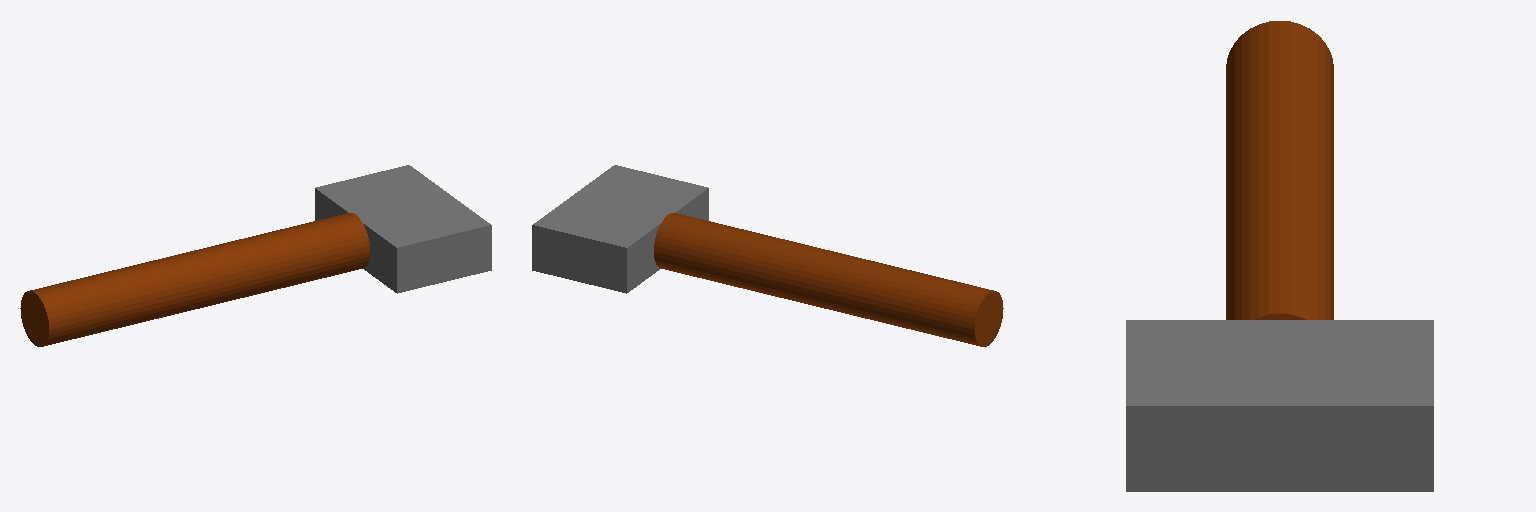
The robot description file, URDF, robot "handle_head":
<?xml version="1.0"?>
<robot name="handle_head">

  <link name="handle_head">
    <!-- Handle -->
    <visual>
              <origin xyz="0 0 0" rpy="0 -1.5707963267948966 0"/>
        <geometry>
          <cylinder length="0.17726666576853403" radius="0.013831753815981788"/>
        </geometry>
        
      <material name="brown">
        <color rgba="0.55 0.27 0.07 1.0"/>
      </material>
    </visual>
    <collision>
              <origin xyz="0 0 0" rpy="0 -1.5707963267948966 0"/>
        <geometry>
          <cylinder length="0.17726666576853403" radius="0.013831753815981788"/>
        </geometry>
        
    </collision>

    <!-- Head -->
    <visual>
              <origin xyz="0.11476975948016133 0 0" rpy="0 0 0"/>
        <geometry>
          <box size="0.05227285319178862 0.07871562753575553 0.024119754325604703"/>
        </geometry>
        
      <material name="gray">
        <color rgba="0.5 0.5 0.5 1.0"/>
      </material>
    </visual>
    <collision>
              <origin xyz="0.11476975948016133 0 0" rpy="0 0 0"/>
        <geometry>
          <box size="0.05227285319178862 0.07871562753575553 0.024119754325604703"/>
        </geometry>
        
    </collision>

    <inertial>
      <origin xyz="0.070342600613342 0 0" rpy="0 0 0"/>
      <mass value="0.17219329837795855"/>
      <inertia ixx="6.58664108383316e-05" iyy="0.0007838588967217177" izz="0.0008332363093891975" ixy="0" ixz="0" iyz="0"/>
    </inertial>
  </link>

</robot>

--- Render facts (derived) ---
The picture shows the robot from 3 angles, left to right: view 1: azimuth 30°, elevation 25°; view 2: azimuth 150°, elevation 25°; view 3: azimuth 270°, elevation 25°; orthographic projection.
Robot: handle_head — 1 links, 0 joints (none); root link handle_head; default pose: every joint at zero.
Links seen in each view (by area): view 1: handle_head; view 2: handle_head; view 3: handle_head.
Boxes of the visible links, box(x1,y1,x2,y2) form: handle_head: box(20, 165, 491, 346); handle_head: box(532, 165, 1003, 346); handle_head: box(1126, 21, 1433, 491).
Bounding box of the posed robot: 0.2295 × 0.0787 × 0.0277 m (x, y, z).
Geometry: primitives only (box / cylinder / sphere), no mesh files.
